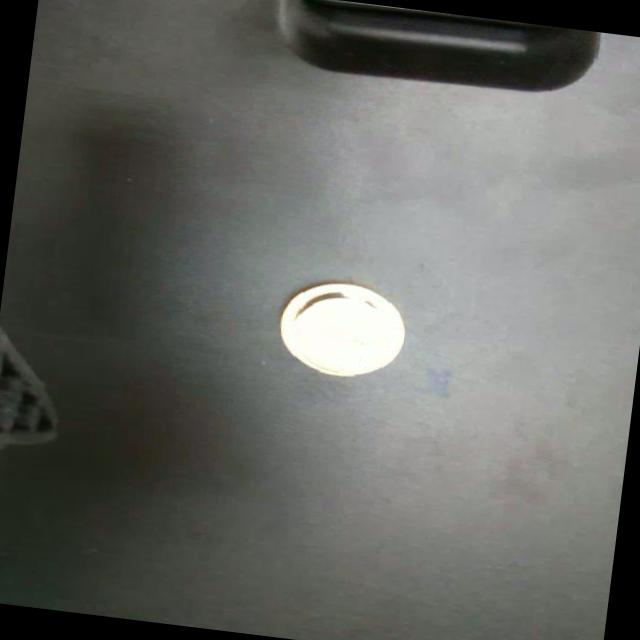sensor: (273, 274, 412, 385)
